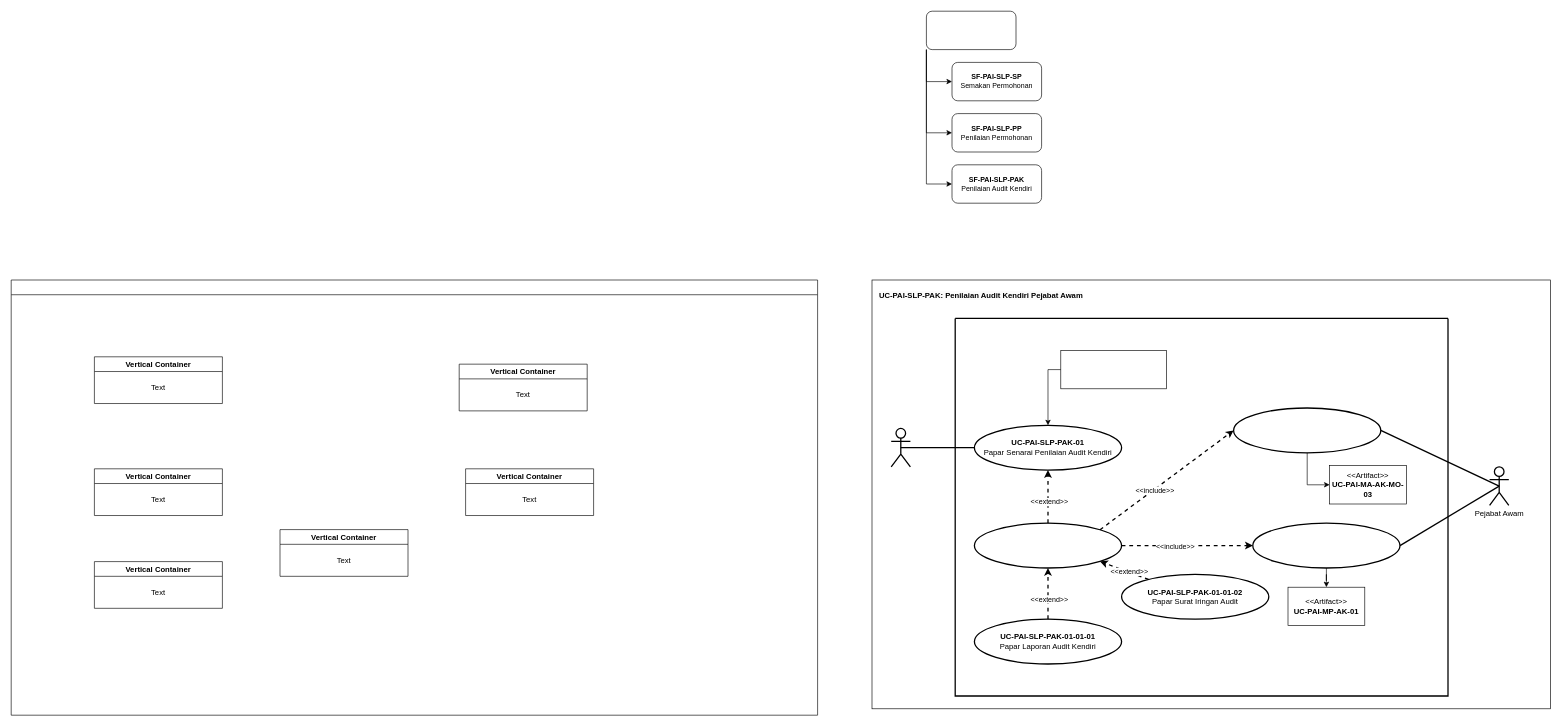
This 1562x726 diagram has some shape labels left out. Each missing label, with the box of its shape:
<<Artifact>> 1. UC-PAI-KLP-PL-01-01-01 2. UC-PAI-MA-AK-01-01-01: (1060, 350, 1166, 389)
DFD-PAI-SLP-PAK: Penilaian Audit Kendiri Pejabat Awam: (11, 279, 818, 715)
Juruaudit: (890, 428, 911, 467)
SF-PAI-SLP Mengurus Semakan Permohonan dan Laporan Penilaian: (926, 11, 1016, 50)
UC-PAI-SLP-PAK-01-01 Kemas Kini Maklumat Penilaian Audit Kendiri: (973, 522, 1122, 568)
UC-PAI-SLP-PAK-01-01-03 Hantar/ Terima Notifikasi Penilaian Laporan: (1252, 522, 1400, 568)
UC-PAI-SLP-PAK-01-01-04 Hantar/ Terima Notifikasi Tarikh Janji Temu: (1233, 407, 1381, 453)
